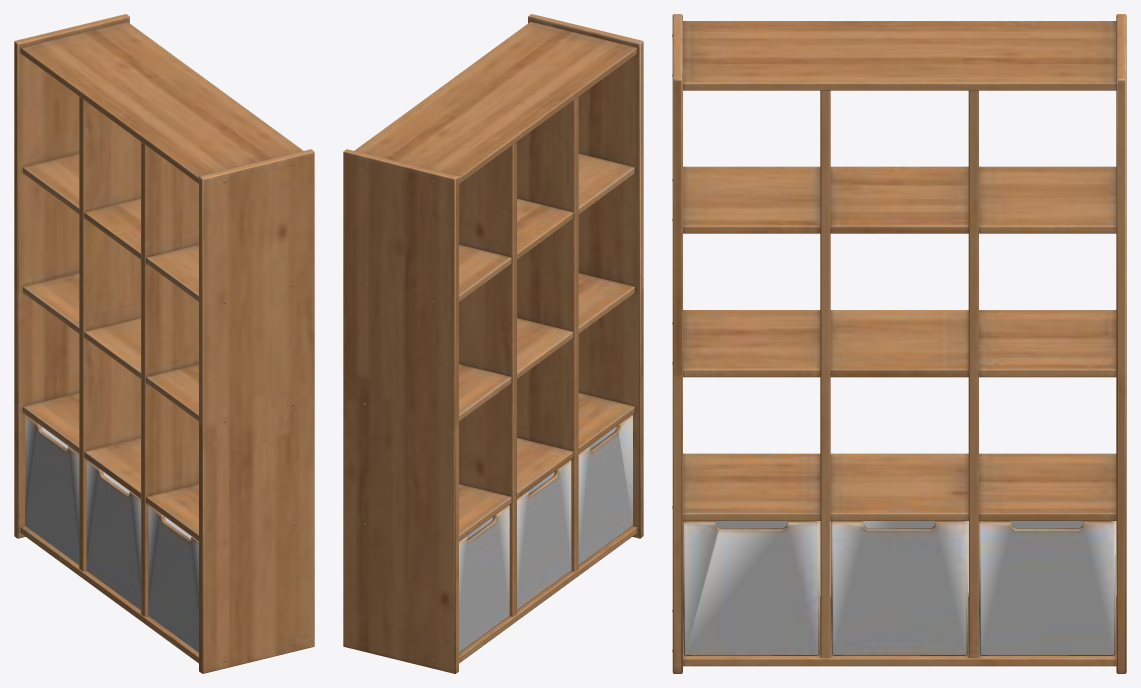
Rendered from display_shelves.glb.
3 renders of one model, left to right at view 1: azimuth 30°, elevation 25°; view 2: azimuth 150°, elevation 25°; view 3: azimuth 270°, elevation 25°, orthographic. The views are drawn at different scales.
Visible parts, largest first — view 1: wooden_display_shelves_01; view 2: wooden_display_shelves_01; view 3: wooden_display_shelves_01.
Part boxes in pixels (x1,y1,x2,y2): wooden_display_shelves_01: (14,14,314,673); wooden_display_shelves_01: (343,14,643,673); wooden_display_shelves_01: (672,14,1126,673).
Size of the model in its own units: 0.3715 by 1.56 by 1.08.
Materials: 1 (1 with a texture image).
